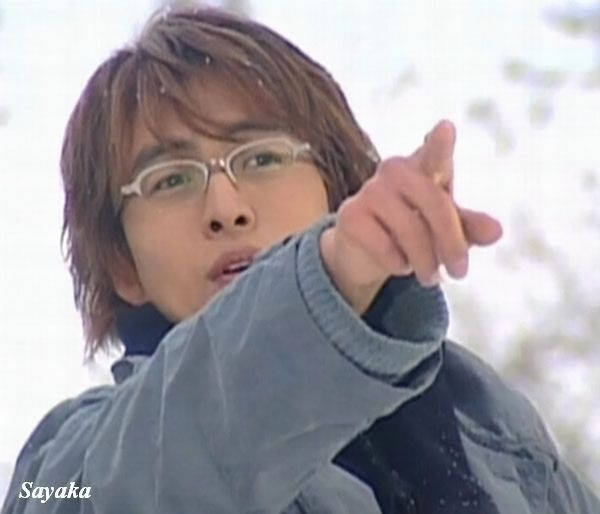face: (113, 73, 331, 325)
hand: (339, 116, 503, 289)
